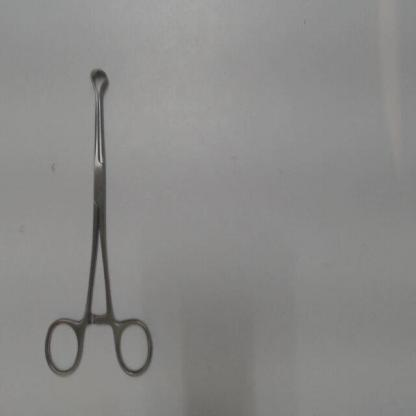Babcock Tissue Forceps: (42, 63, 157, 383)
